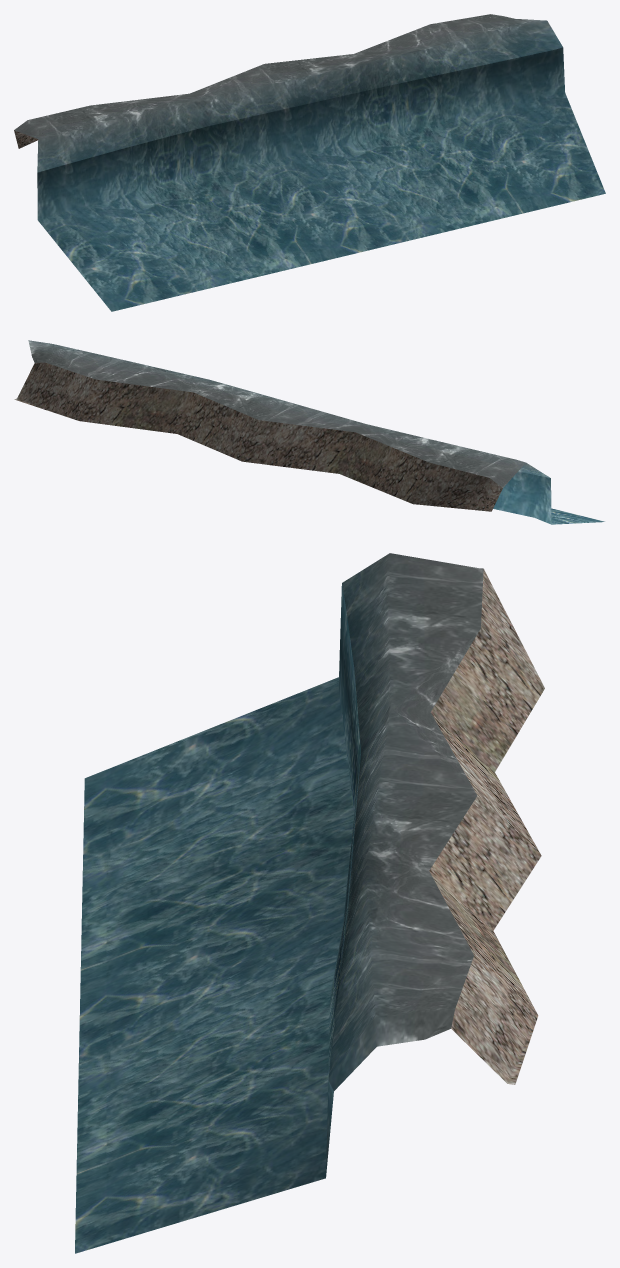
File: rts07.obj
The picture shows the model from 3 angles, top to bottom: view 1: azimuth 30°, elevation 25°; view 2: azimuth 150°, elevation 25°; view 3: azimuth 270°, elevation 25°; orthographic projection. The views are drawn at different scales.
Visible parts, largest first — view 1: rts07; view 2: rts07; view 3: rts07.
Boxes of the visible parts, box(x1,y1,x2,y2) form: rts07: box(14, 14, 605, 311); rts07: box(14, 340, 604, 524); rts07: box(75, 553, 544, 1253).
Size of the model in its own units: 894 by 188 by 351.
